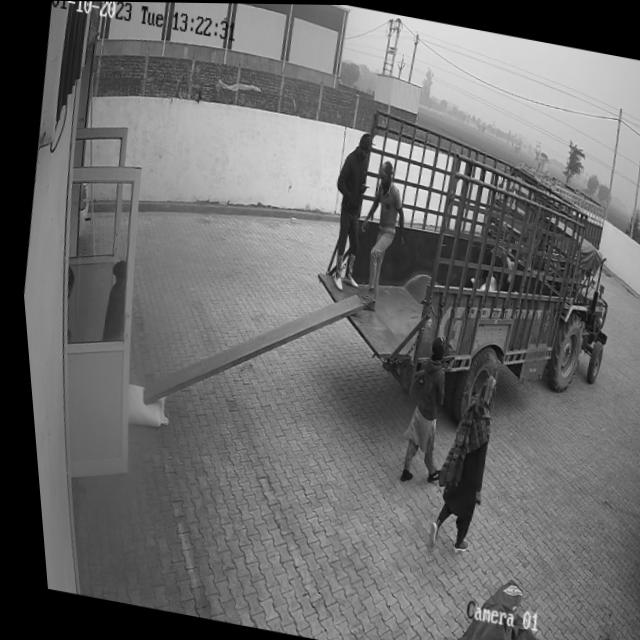sack: (114, 382, 165, 430)
